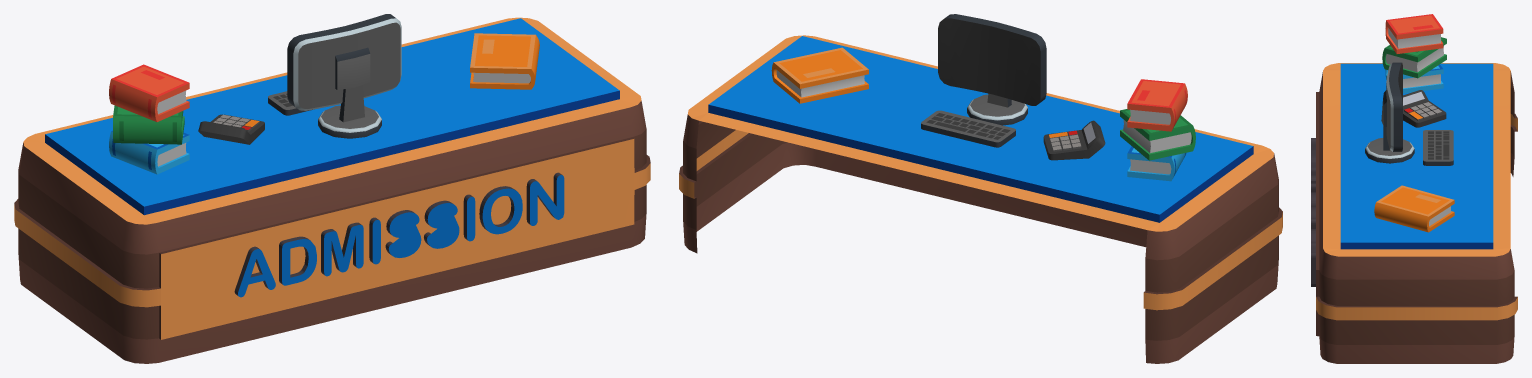
The model's file is Amission Table.fbx.
The picture shows the model from 3 angles, left to right: view 1: azimuth 30°, elevation 25°; view 2: azimuth 150°, elevation 25°; view 3: azimuth 270°, elevation 25°; orthographic projection. The views are drawn at different scales.
Parts seen in each view (by area): view 1: Amission Table; view 2: Amission Table; view 3: Amission Table.
Boxes of the visible parts, bbox=[...] form: Amission Table: bbox=[14, 14, 650, 363]; Amission Table: bbox=[679, 14, 1282, 363]; Amission Table: bbox=[1311, 14, 1517, 363].
Size of the model in its own units: 20.88 by 9.13 by 9.15.
